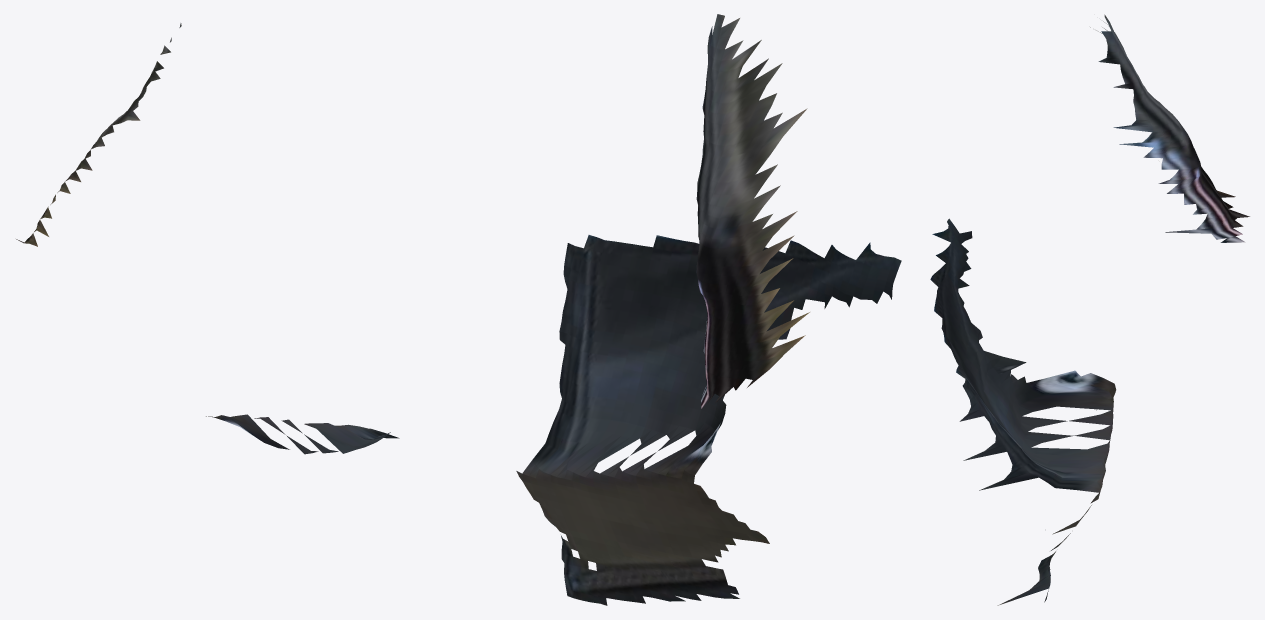
File: observed-surface.glb
3 views of the same model, side by side, from view 1: azimuth 30°, elevation 25°; view 2: azimuth 150°, elevation 25°; view 3: azimuth 270°, elevation 25° (orthographic). The views are drawn at different scales.
Parts seen in each view (by area): view 1: geometry_0; view 2: geometry_0; view 3: geometry_0.
Boxes of the visible parts, bbox=[...] form: geometry_0: bbox=[16, 23, 399, 454]; geometry_0: bbox=[516, 14, 901, 605]; geometry_0: bbox=[930, 14, 1249, 605].
Bounding box in the file's own units: 0.3725 × 0.6313 × 0.3563.
Materials: 1 (1 with a texture image).
